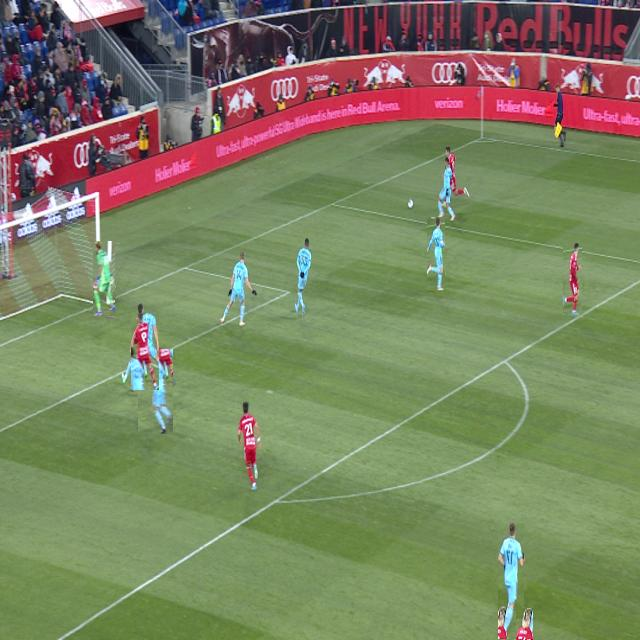football: (408, 199, 414, 208)
goalkeeper: (93, 241, 115, 316)
player: (138, 349, 173, 434), (499, 524, 524, 639), (220, 252, 256, 325), (131, 314, 159, 390), (122, 304, 149, 382), (238, 403, 261, 490), (441, 147, 469, 207), (563, 244, 582, 315), (427, 217, 445, 291), (295, 239, 312, 315), (438, 158, 456, 221), (516, 609, 533, 640)
